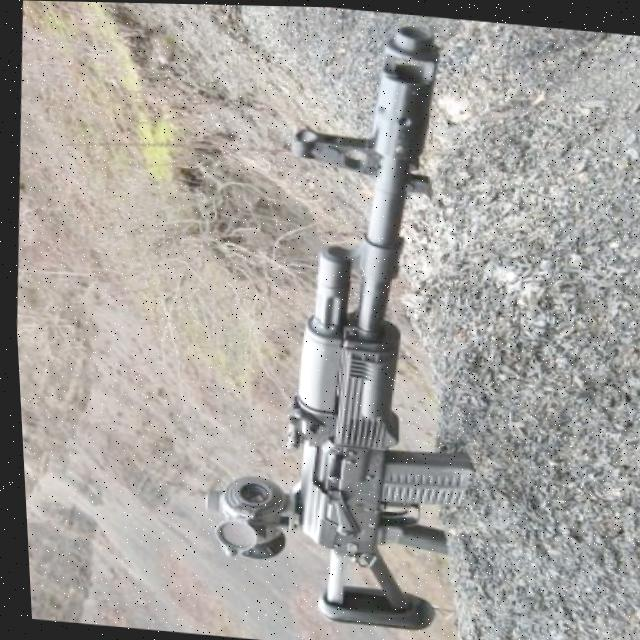firearm: (171, 7, 506, 634)
